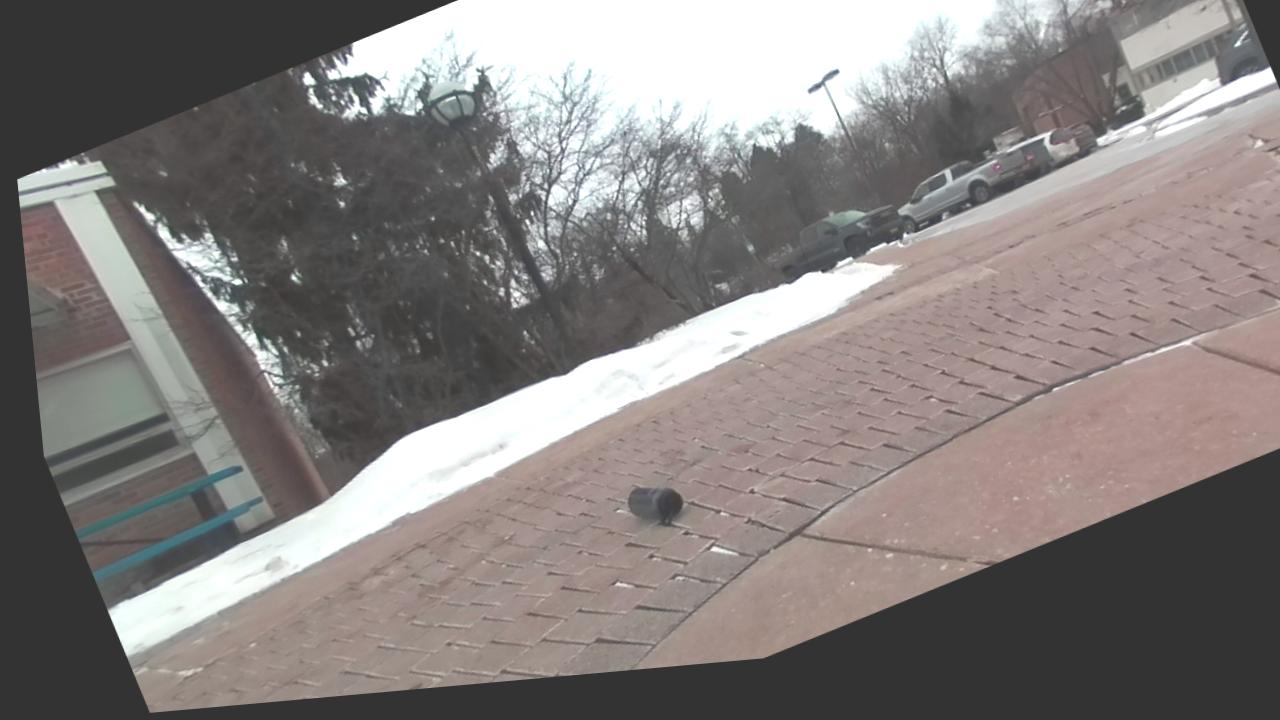bottle: (627, 487, 683, 526)
